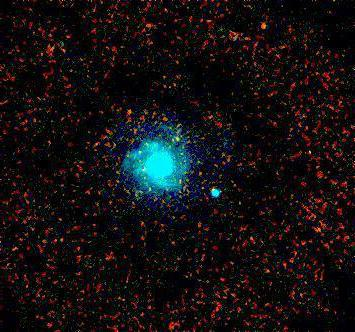star: (251, 10, 281, 40)
